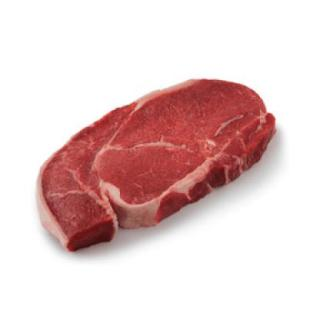Daging Sapi: (38, 80, 277, 253)
